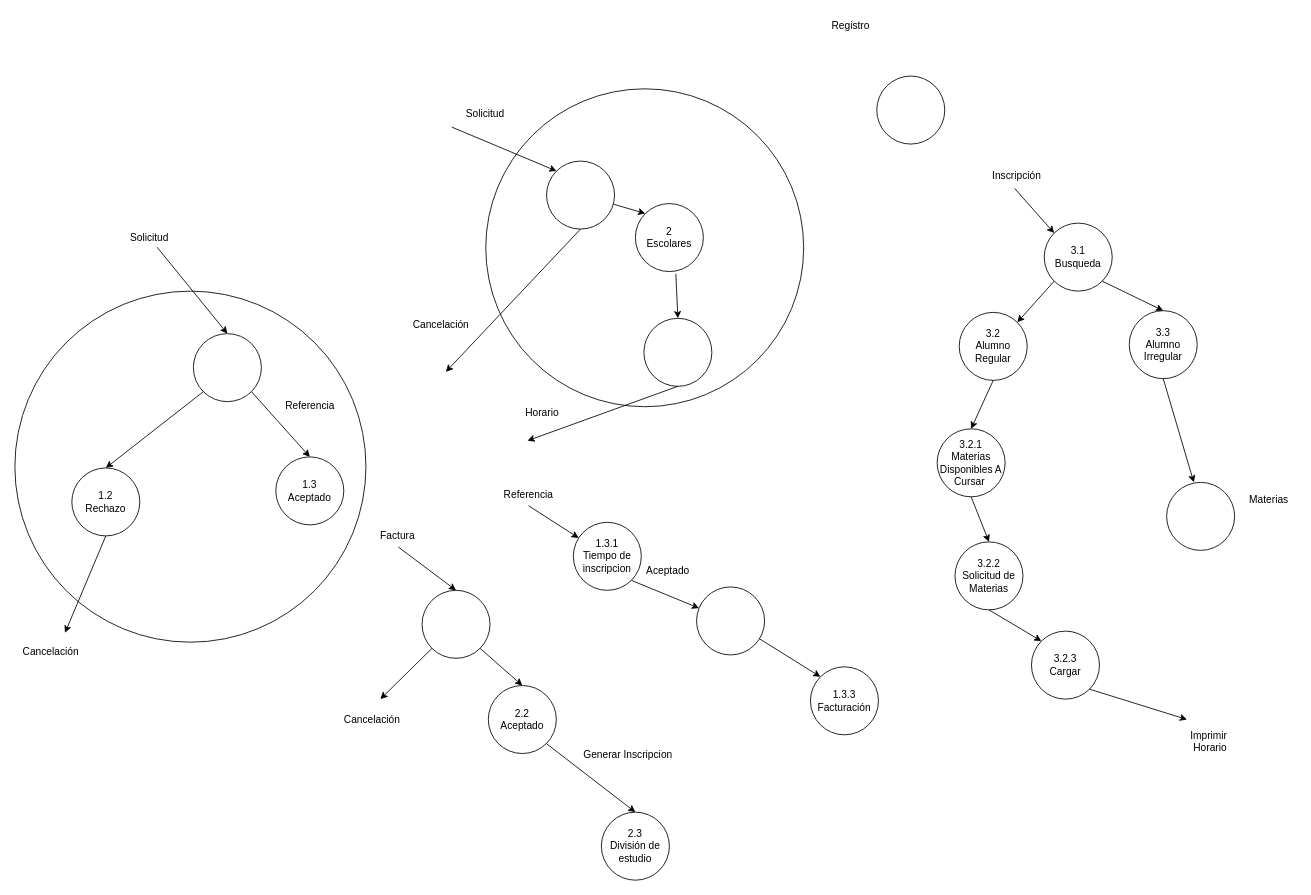
This 1311x895 diagram has some shape labels left out. The shapes that lost their labels are listed below. From the top down, each one's centre as x and y in pixels, then its label:
At point (910, 109): "-Propia -Personal".
At point (580, 194): "1 Facturación".
At point (227, 367): "1.1 Validación".
At point (677, 351): "3 División De Estudio".
At point (1200, 516): "3.3.1 Solicitud".
At point (455, 623): "2.1 Buscar Adeudos".
At point (730, 620): "1.3.2 Busqueda".
